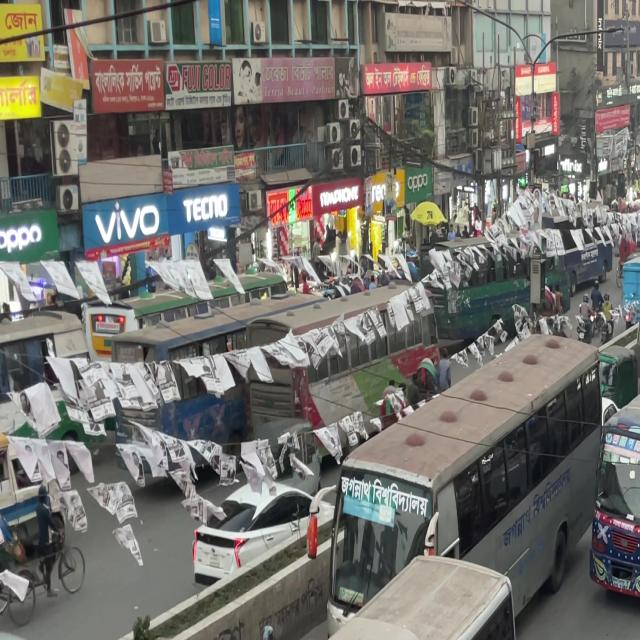bus: (315, 339, 599, 625), (97, 543, 545, 640), (585, 339, 640, 607)
car: (188, 475, 332, 581)
